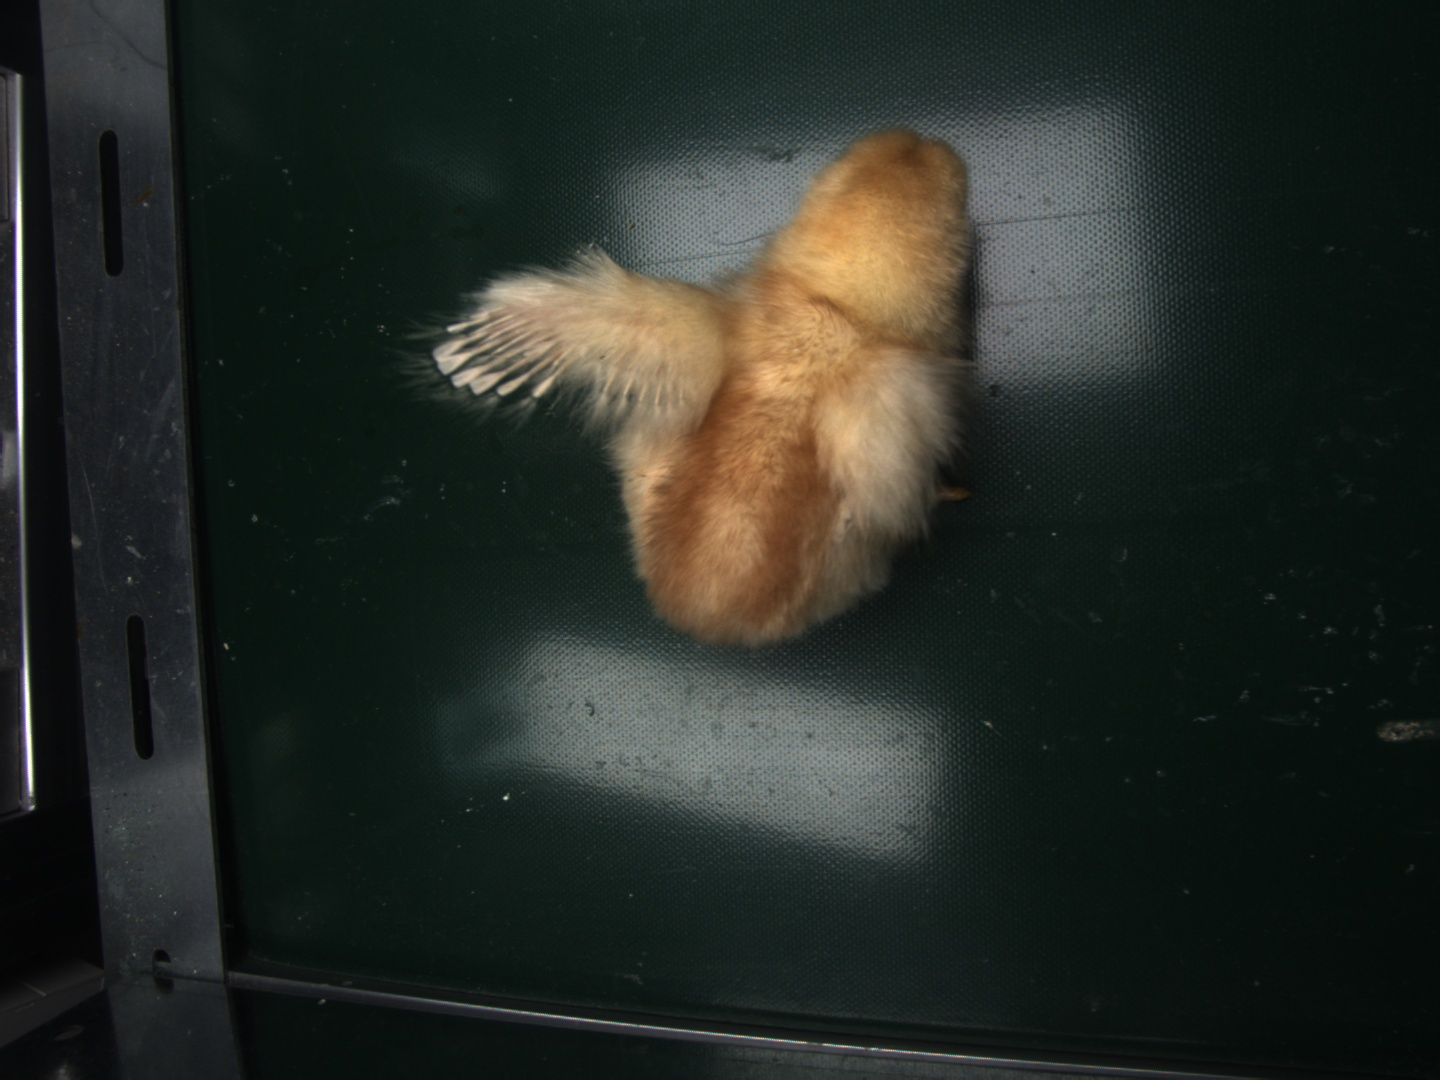female: (437, 306, 564, 394)
